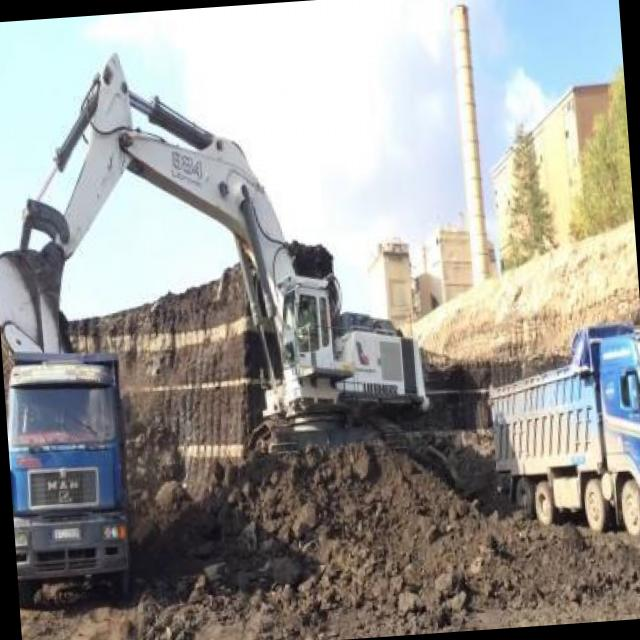Dump Truck: (471, 316, 640, 551), (2, 344, 132, 628)
Excavator: (0, 25, 436, 488)
